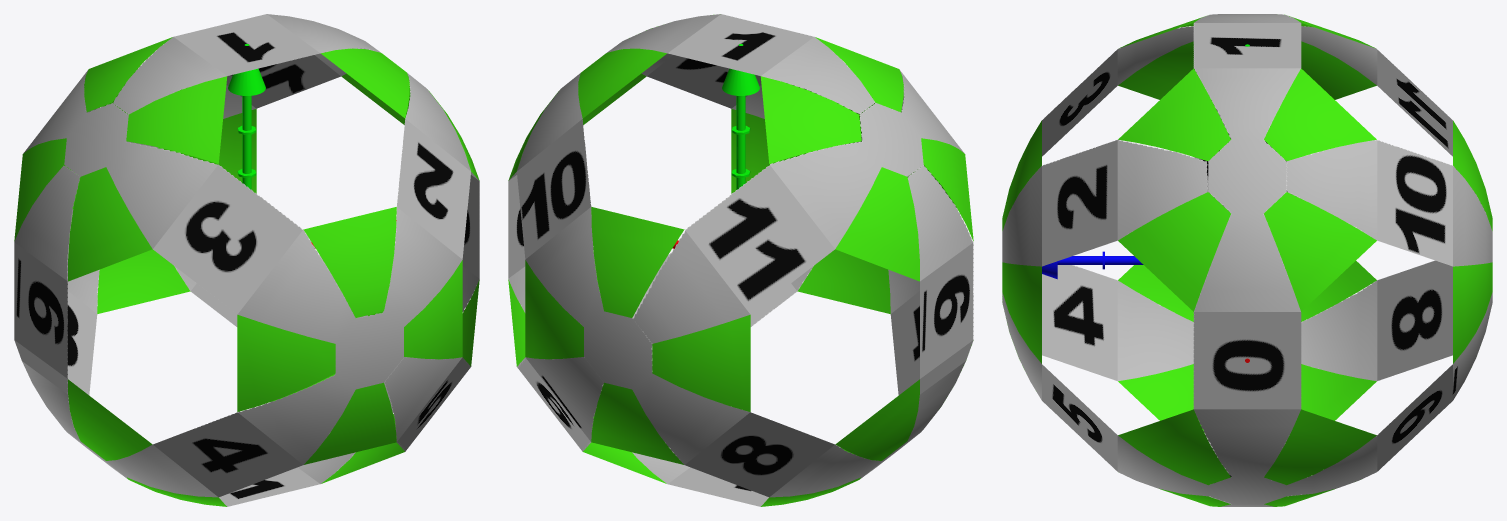
Rendered from catom3Drepere.obj.
3 views of the same model, side by side, from view 1: azimuth 30°, elevation 25°; view 2: azimuth 150°, elevation 25°; view 3: azimuth 270°, elevation 25° (orthographic).
Parts seen in each view (by area): view 1: catom_sphere; view 2: catom_sphere; view 3: catom_sphere.
Boxes of the visible parts, box(x1,y1,x2,y2) form: catom_sphere: box(14, 14, 479, 506); catom_sphere: box(508, 14, 973, 506); catom_sphere: box(1002, 14, 1492, 506).
Size of the model in its own units: 10 by 10 by 10.33.
